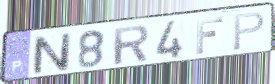4: (154, 19, 186, 61)
8: (77, 29, 107, 70)
F: (194, 15, 225, 56)
N: (31, 32, 72, 76)
P: (231, 10, 267, 53)
R: (112, 23, 151, 67)
